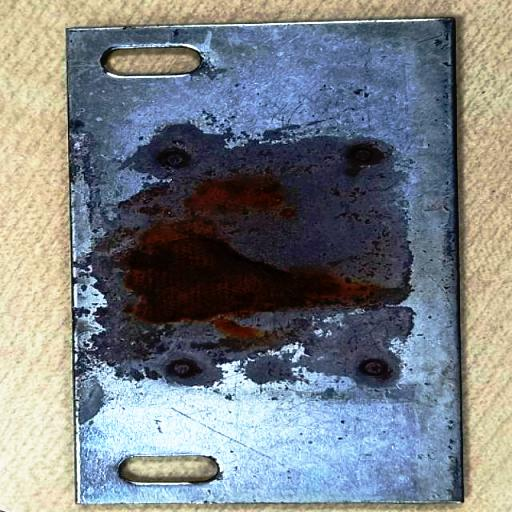corrosion: (126, 226, 362, 339), (181, 173, 307, 227)
